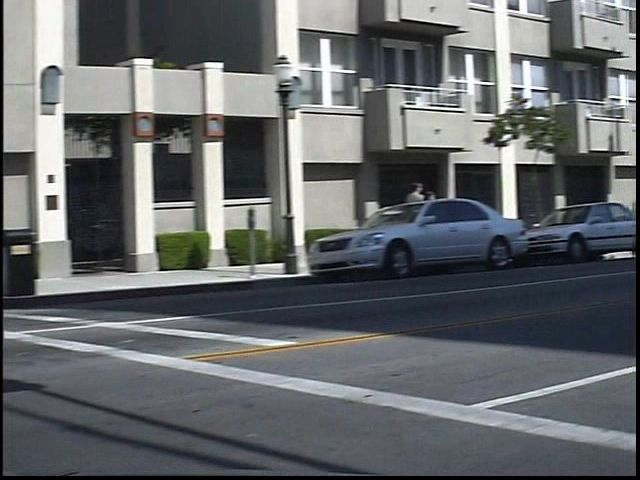person: (417, 178, 441, 253), (435, 187, 455, 248)
